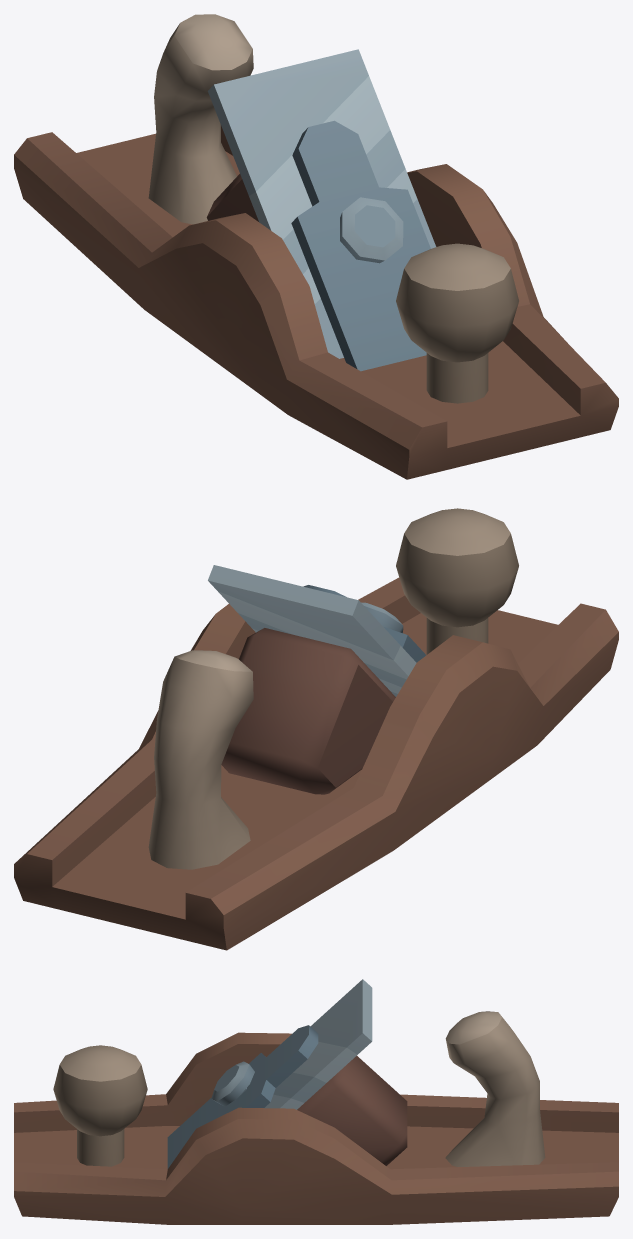
File: handplane.obj
3 renders of one model, top to bottom at view 1: azimuth 30°, elevation 25°; view 2: azimuth 150°, elevation 25°; view 3: azimuth 270°, elevation 25°, orthographic. The views are drawn at different scales.
Parts seen in each view (by area): view 1: handplane; view 2: handplane; view 3: handplane.
Part boxes in pixels (x1,y1,x2,y2): handplane: (14,14,618,479); handplane: (14,508,618,950); handplane: (14,979,618,1224).
Size of the model in its own units: 0.3966 by 0.3417 by 1.06.
1 material, 1 textured.
